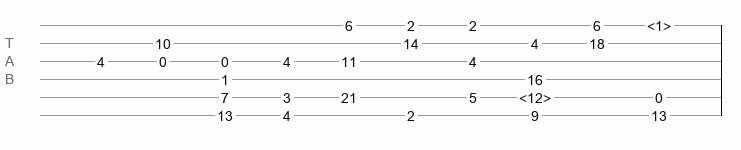0: (159, 54, 167, 64), (221, 54, 229, 64), (655, 90, 663, 100)
1: (221, 72, 229, 82)
10: (155, 36, 171, 46)
11: (341, 54, 357, 64)
13: (217, 108, 233, 118), (651, 108, 667, 118)
14: (403, 36, 419, 46)
16: (527, 72, 543, 82)
18: (589, 36, 605, 46)
2: (407, 18, 415, 28), (407, 108, 415, 118), (469, 18, 477, 28)
21: (341, 90, 357, 100)
3: (283, 90, 291, 100)
4: (97, 54, 105, 64), (283, 108, 291, 118), (283, 54, 291, 64), (469, 54, 477, 64), (531, 36, 539, 46)
5: (469, 90, 477, 100)
6: (345, 18, 353, 28), (593, 18, 601, 28)
7: (221, 90, 229, 100)
9: (531, 108, 539, 118)
harmonic: (519, 90, 551, 100), (647, 18, 671, 28)
